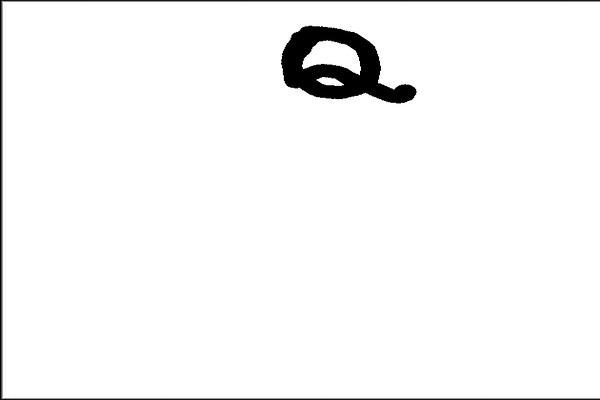Q: (273, 19, 419, 117)
